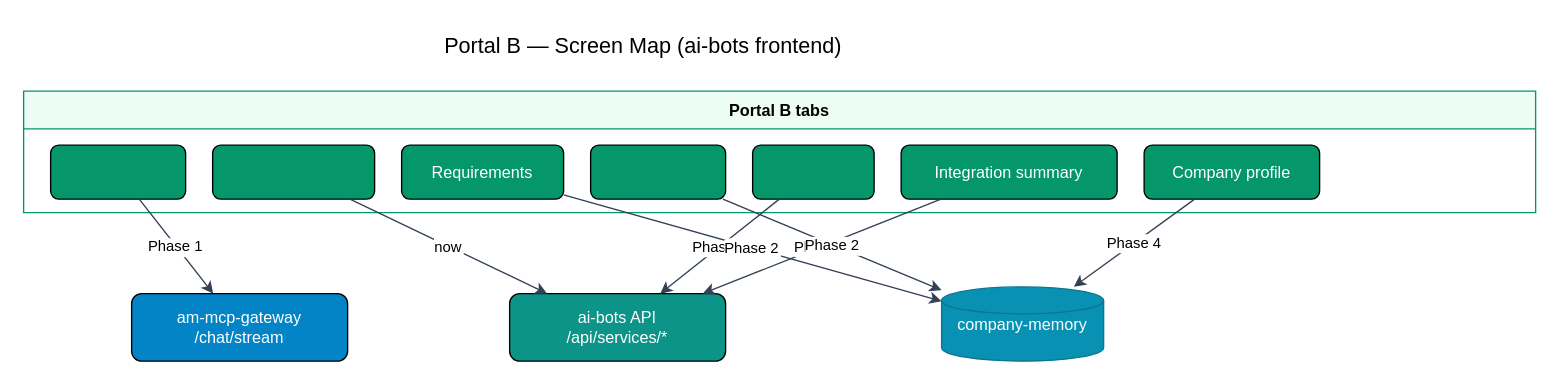
The diagram is 1559 pixels wide and 385 high, and some of its shapes have lost their labels. The box of each missing label's shape, as (x1, y1, x2, y2) in pixels:
Chat: (49, 144, 186, 199)
Integrations: (211, 144, 375, 199)
Meetings: (589, 144, 726, 199)
Profile: (751, 144, 874, 199)
